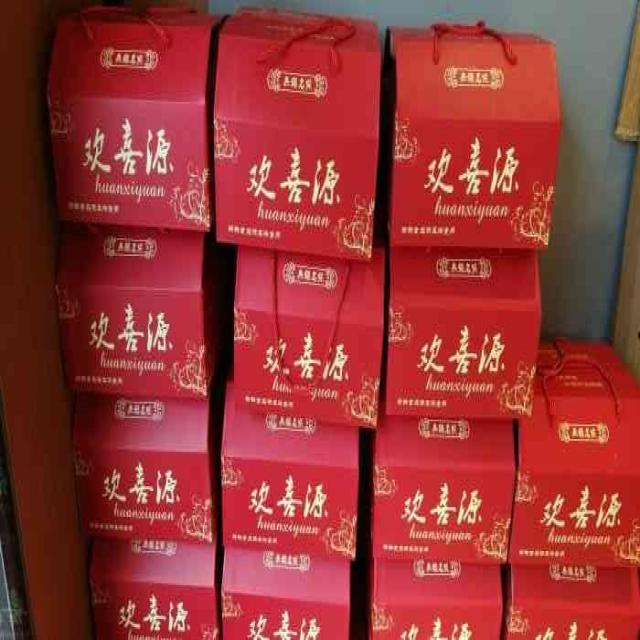box: (212, 8, 382, 262), (377, 27, 561, 249), (47, 13, 231, 229), (506, 337, 639, 570), (219, 355, 360, 561), (54, 225, 221, 394), (234, 246, 384, 425), (385, 250, 542, 419), (373, 397, 517, 564), (70, 392, 221, 542), (86, 538, 223, 636), (220, 549, 350, 637), (366, 557, 502, 638), (503, 568, 639, 637), (613, 133, 639, 379), (615, 4, 639, 133)
